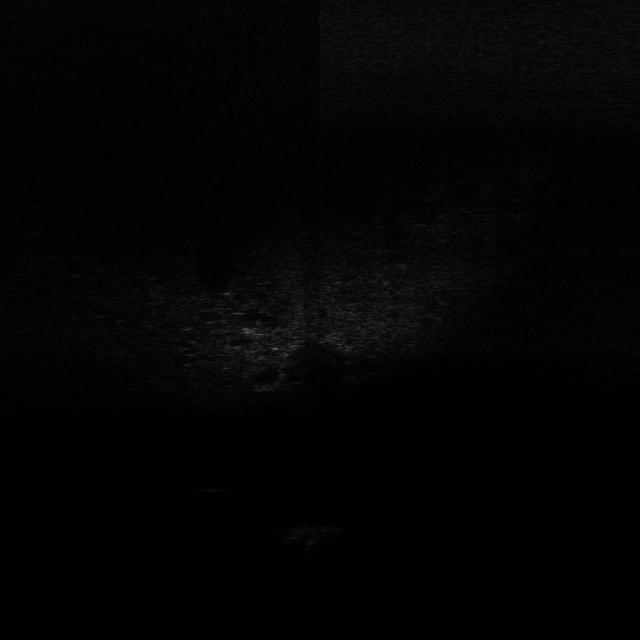ball: (200, 470, 232, 495)
circle cage: (271, 518, 348, 547)
